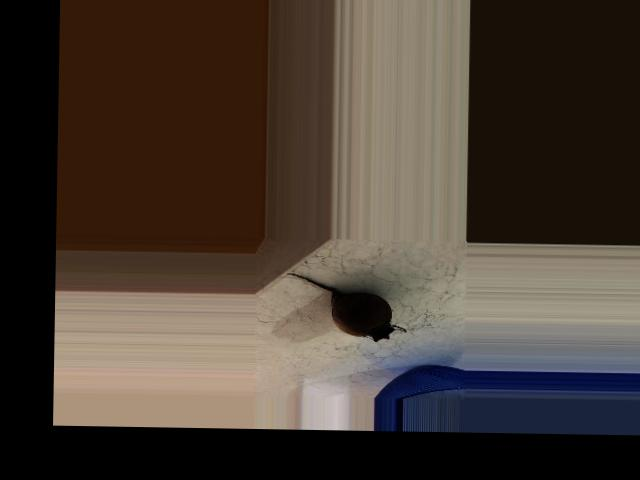beet: (286, 272, 406, 341)
